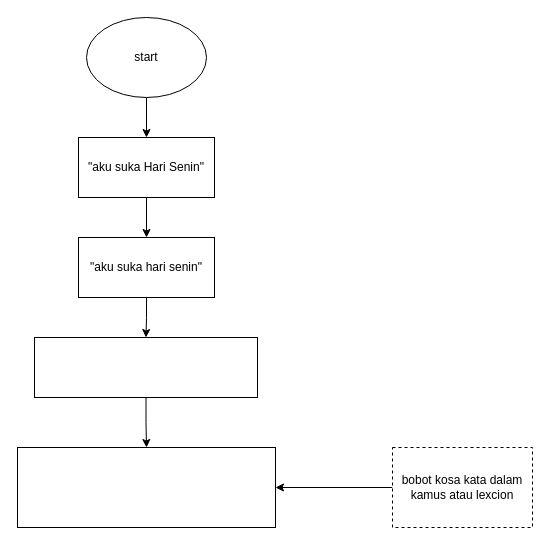
Image size: 550x545. Some labels were removed from this diagram. The centre of each missing label's shape, as x and y in pixels:
["aku","suka","hari", "senin"]: (x=146, y=367)
["aku","suka","hari", "senin"] 1, 5, 4, 5: (x=146, y=487)
